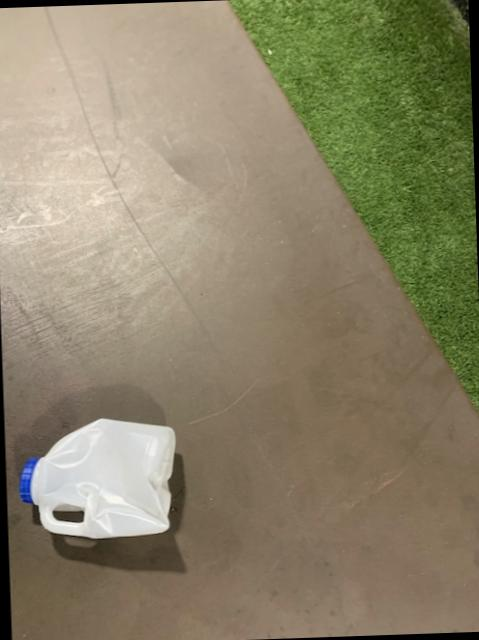plastic: (20, 420, 175, 540)
